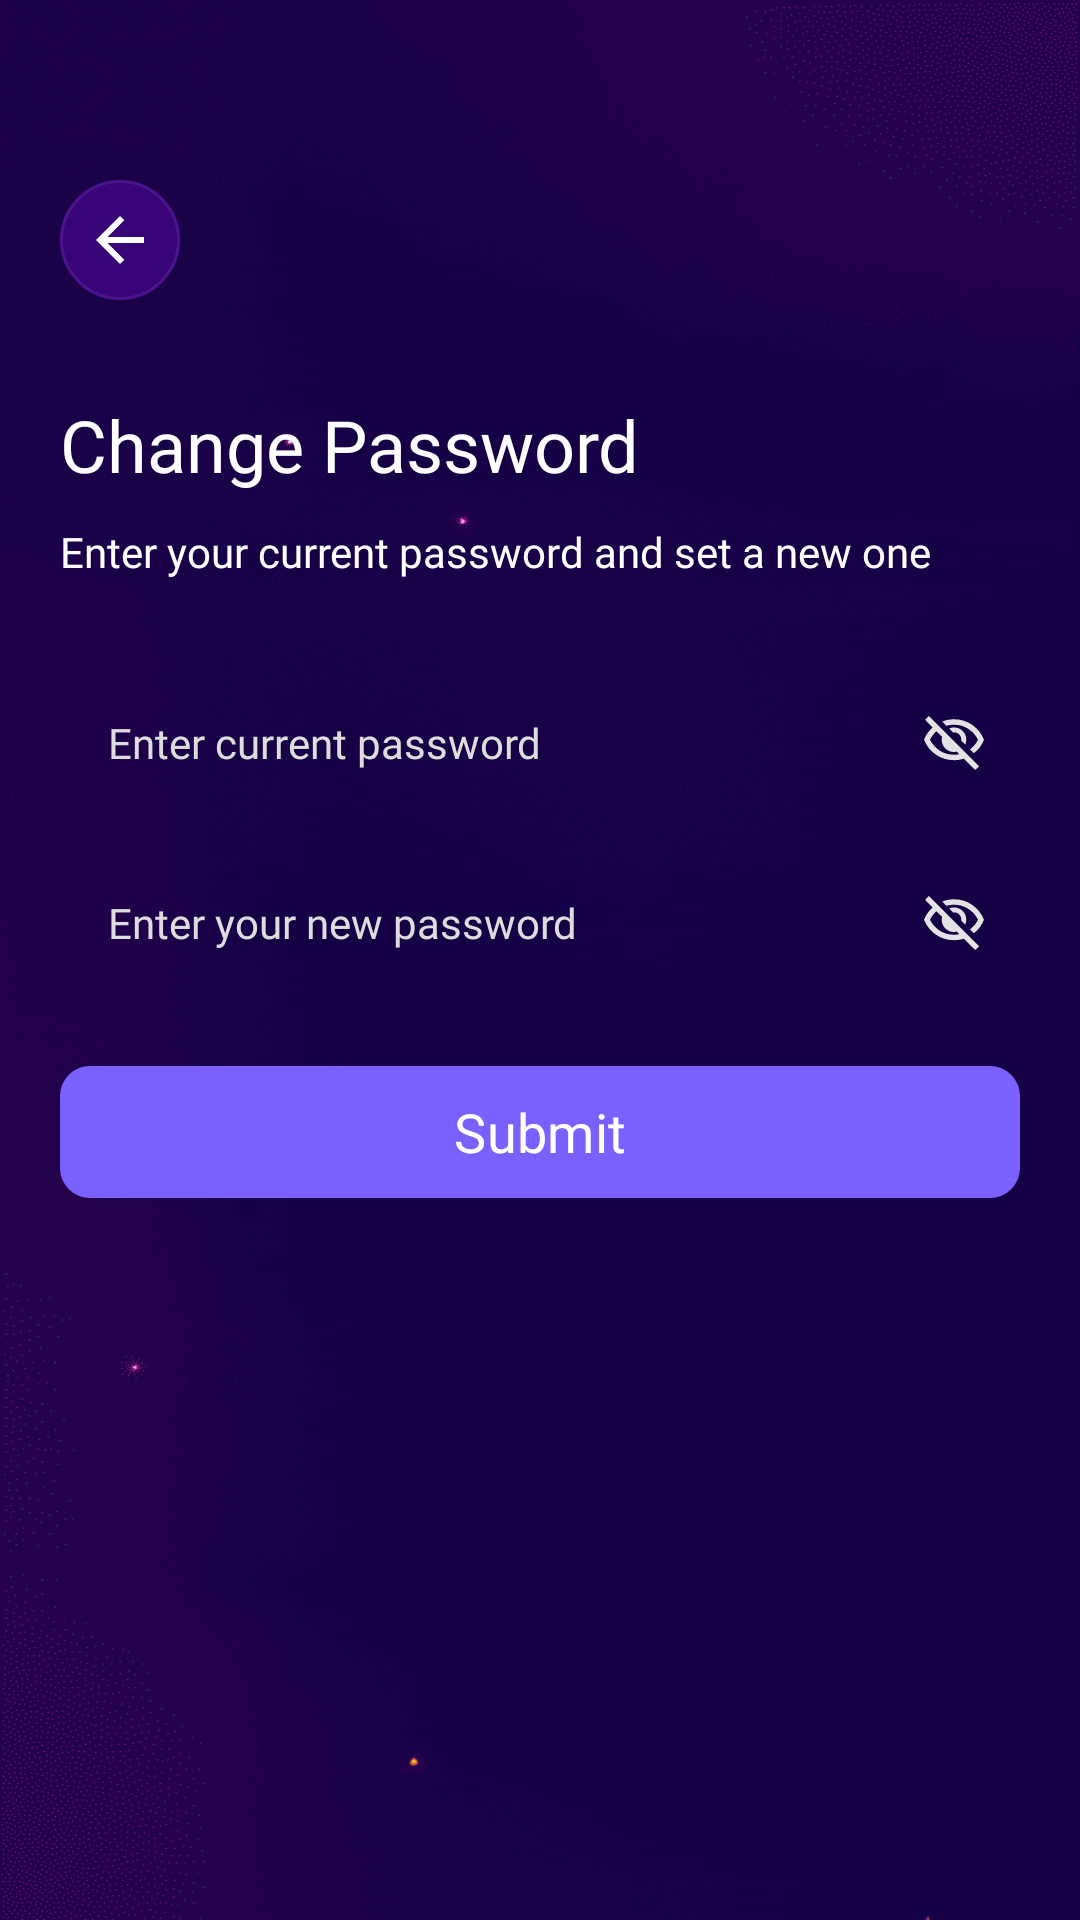

Where to tap for icons on this 1080 × 1920 app screen, as (x=x, y=y):
back: (x=120, y=240)
